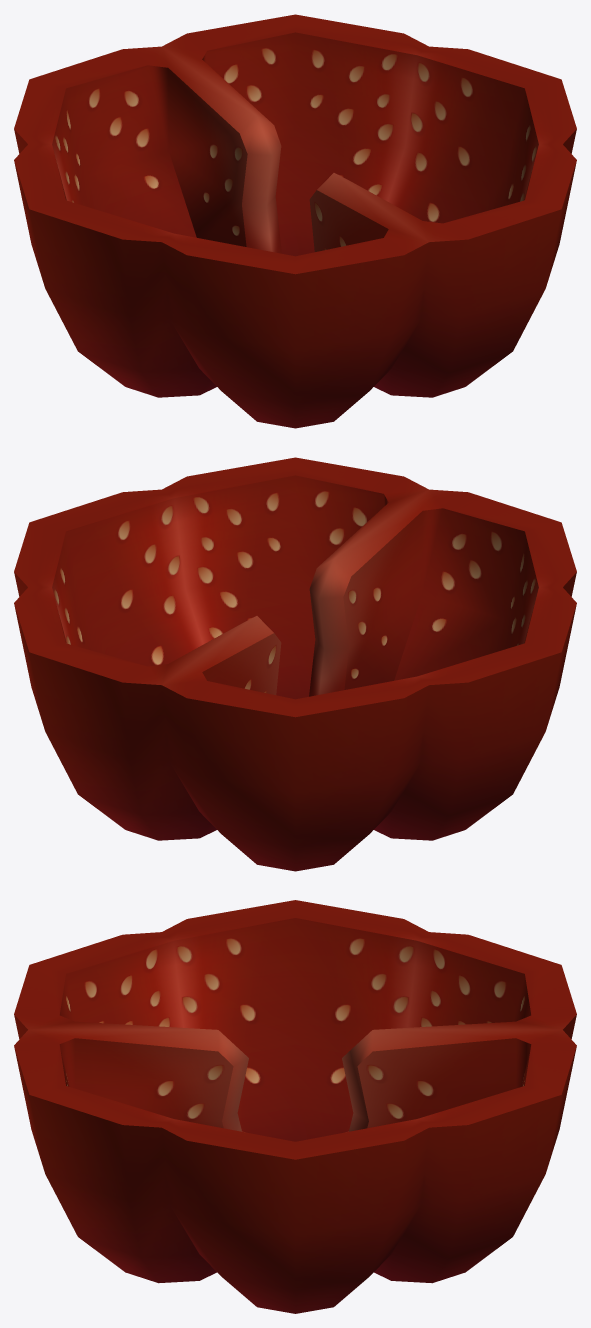
File: Pepper_R_Half_Bottom.fbx
3 renders of one model, top to bottom at view 1: azimuth 30°, elevation 25°; view 2: azimuth 150°, elevation 25°; view 3: azimuth 270°, elevation 25°, orthographic.
Visible parts, largest first — view 1: Pepper_R_Half_Botton; view 2: Pepper_R_Half_Botton; view 3: Pepper_R_Half_Botton.
Part boxes in pixels (bbox=[...]): Pepper_R_Half_Botton: bbox=[14, 14, 576, 428]; Pepper_R_Half_Botton: bbox=[14, 457, 576, 871]; Pepper_R_Half_Botton: bbox=[14, 900, 576, 1313].
Bounding box in the file's own units: 2.3 × 0.8828 × 2.11.
